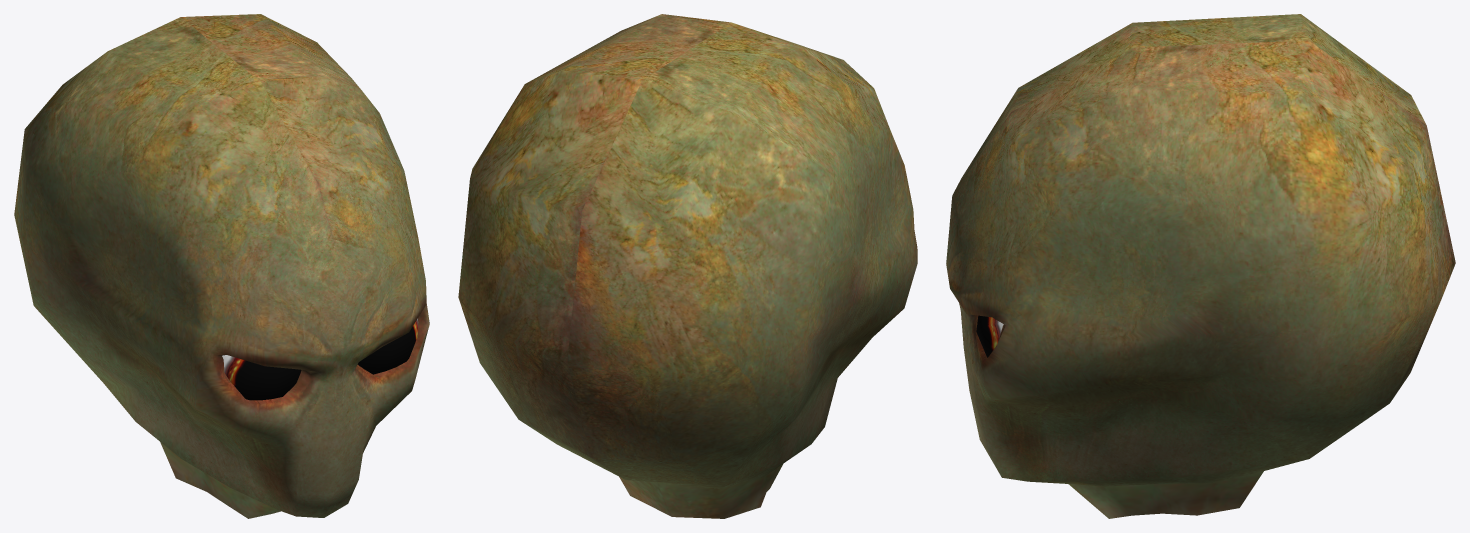
Rendered from alien.fbx.
The picture shows the model from 3 angles, left to right: view 1: azimuth 30°, elevation 25°; view 2: azimuth 150°, elevation 25°; view 3: azimuth 270°, elevation 25°; orthographic projection. The views are drawn at different scales.
Visible parts, largest first — view 1: Sectoid; view 2: Sectoid; view 3: Sectoid.
Boxes of the visible parts, x1,y1,x2,y2 form: Sectoid: [14, 14, 429, 518]; Sectoid: [458, 14, 917, 518]; Sectoid: [946, 14, 1455, 518].
Bounding box in the file's own units: 25.83 × 33.8 × 34.15.
Materials: 1 (1 with a texture image).
